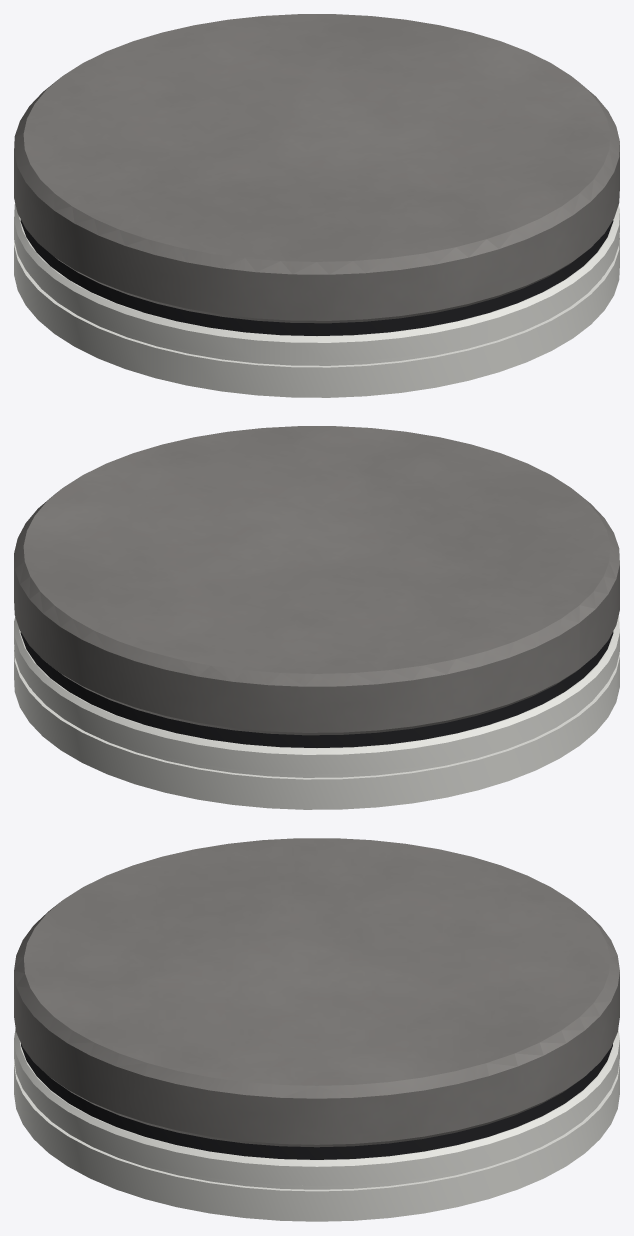
The model's file is ax_util_13_rotary_bearing_m.glb.
The picture shows the model from 3 angles, top to bottom: view 1: azimuth 30°, elevation 25°; view 2: azimuth 150°, elevation 25°; view 3: azimuth 270°, elevation 25°; orthographic projection.
Visible parts, largest first — view 1: rotor, stator, seal_ring; view 2: rotor, stator, seal_ring; view 3: rotor, stator, seal_ring.
Boxes of the visible parts, left/top/right/bottom form: rotor: left=14, top=14, right=619, bottom=323; stator: left=14, top=203, right=619, bottom=397; seal_ring: left=20, top=219, right=613, bottom=335; rotor: left=14, top=426, right=619, bottom=735; stator: left=14, top=615, right=619, bottom=809; seal_ring: left=20, top=631, right=613, bottom=747; rotor: left=14, top=838, right=619, bottom=1147; stator: left=14, top=1028, right=619, bottom=1221; seal_ring: left=21, top=1044, right=612, bottom=1159.
Bounding box in the file's own units: 1.25 × 0.3 × 1.25.
3 materials, 1 textured.
